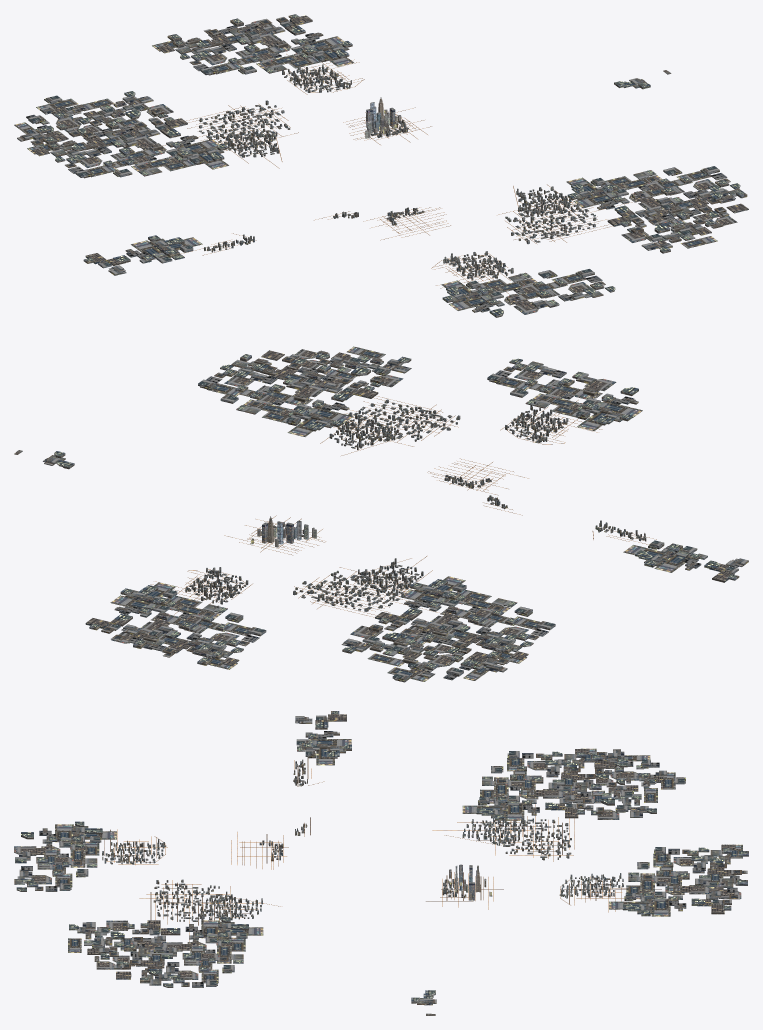
The model's file is city-context.glb.
The picture shows the model from 3 angles, top to bottom: view 1: azimuth 30°, elevation 25°; view 2: azimuth 150°, elevation 25°; view 3: azimuth 270°, elevation 25°; orthographic projection. The views are drawn at different scales.
Visible parts, largest first — view 1: City_LowRise, City_Trails, City_Downtown; view 2: City_LowRise, City_Trails, City_Downtown; view 3: City_LowRise, City_Trails, City_Downtown.
Part boxes in pixels (bbox=[...]): City_LowRise: bbox=[14, 14, 748, 317]; City_Trails: bbox=[162, 54, 632, 294]; City_Downtown: bbox=[365, 97, 401, 138]; City_LowRise: bbox=[14, 346, 748, 682]; City_Trails: bbox=[150, 396, 664, 617]; City_Downtown: bbox=[250, 516, 316, 547]; City_LowRise: bbox=[14, 711, 748, 1015]; City_Trails: bbox=[104, 758, 661, 941]; City_Downtown: bbox=[448, 864, 492, 900].
Size of the model in its own units: 6532 by 304 by 6664.
5 materials, 4 textured.
